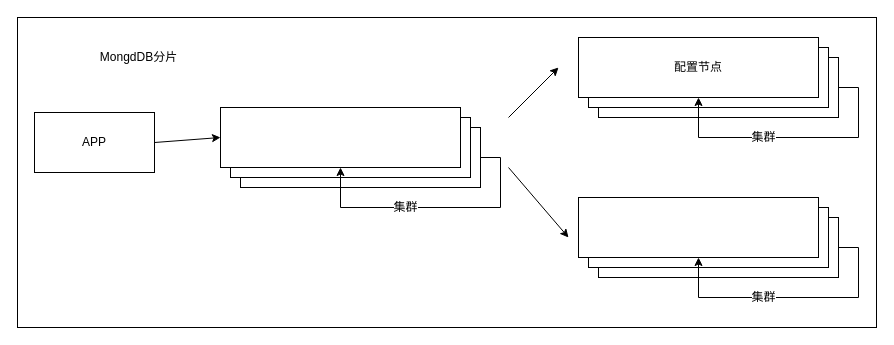
The diagram is 894 pixels wide and 345 high, and some of its shapes have lost their labels. Here are the shapes that lost their labels. From the top down, the centre of each, then its label:
At (x=340, y=137): "路由".
At (x=698, y=227): "分片节点".
